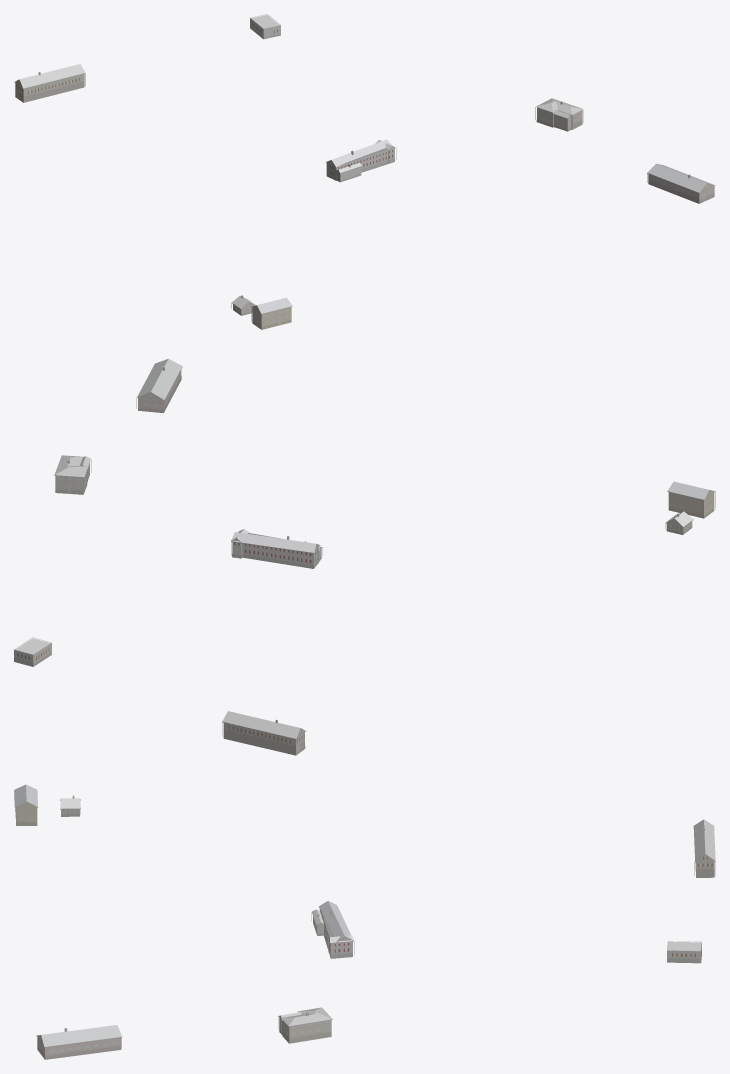
3 renders of one model, top to bottom at view 1: azimuth 30°, elevation 25°; view 2: azimuth 150°, elevation 25°; view 3: azimuth 270°, elevation 25°, orthographic. The views are drawn at different scales.
Parts seen in each view (by area): view 1: bld; view 2: bld; view 3: bld.
Boxes of the visible parts, left/top/right/bottom form: bld: left=14, top=14, right=715, bottom=329; bld: left=14, top=358, right=715, bottom=755; bld: left=14, top=784, right=715, bottom=1059.
Bounding box in the file's own units: 218 × 14.87 × 245.
